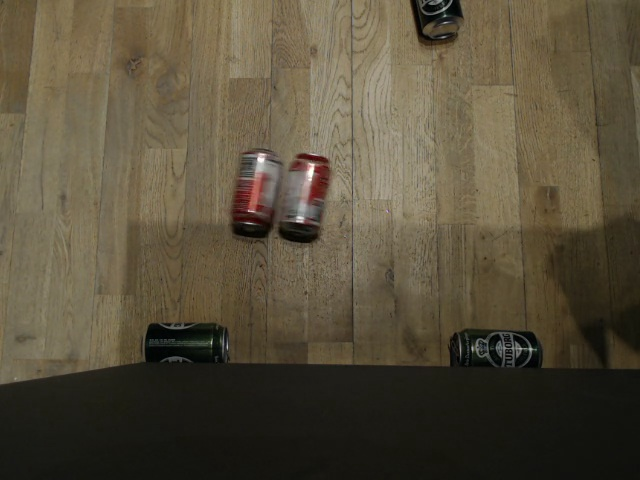beer: (448, 326, 546, 370), (136, 320, 230, 364), (405, 0, 465, 39)
cola: (229, 149, 284, 232), (275, 154, 331, 235)
